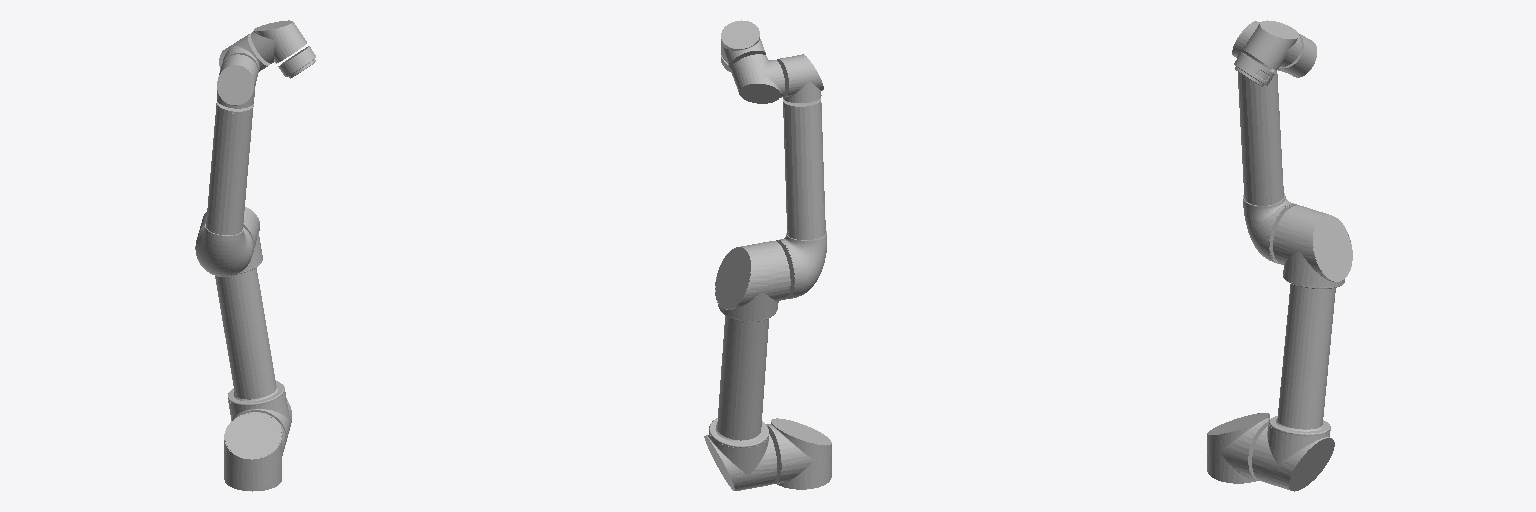
robot.urdf — ur5:
<?xml version="1.0" encoding="utf-8"?>
<!-- This URDF was automatically created by SolidWorks to URDF Exporter! Originally created by [author] ([email redacted]) 
     Commit Version: 1.6.0-4-g7f85cfe  Build Version: 1.6.7995.38578
     For more information, please see http://wiki.ros.org/sw_urdf_exporter -->
<robot
  name="ur5">
  <link
    name="base_link">
    <inertial>
      <origin
        xyz="0.00655614851901618 0.00875209372774839 0.0803256198422797"
        rpy="0 0 0" />
      <mass
        value="1.16671926811488" />
      <inertia
        ixx="0.00213484598247089"
        ixy="-8.75744225275896E-05"
        ixz="-0.000155366712798131"
        iyy="0.00208356403275134"
        iyz="-0.000207389969339676"
        izz="0.00226811292179453" />
    </inertial>
    <visual>
      <origin
        xyz="0 0 0"
        rpy="0 0 0" />
      <geometry>
        <mesh
          filename="package://ur5/meshes/base_link.STL" />
      </geometry>
      <material
        name="">
        <color
          rgba="0.752941176470588 0.752941176470588 0.752941176470588 1" />
      </material>
    </visual>
    <collision>
      <origin
        xyz="0 0 0"
        rpy="0 0 0" />
      <geometry>
        <mesh
          filename="package://ur5/meshes/base_link.STL" />
      </geometry>
    </collision>
  </link>
  <link
    name="link1">
    <inertial>
      <origin
        xyz="-0.0324626986746649 -0.210005755781888 0.0695751843092656"
        rpy="0 0 0" />
      <mass
        value="4.16135879753895" />
      <inertia
        ixx="0.0204686280854395"
        ixy="-0.00226101141342534"
        ixz="-2.27971752067915E-07"
        iyy="0.00619136903373067"
        iyz="3.6019428463953E-08"
        izz="0.0209533591147774" />
    </inertial>
    <visual>
      <origin
        xyz="0 0 0"
        rpy="0 0 0" />
      <geometry>
        <mesh
          filename="package://ur5/meshes/link1.STL" />
      </geometry>
      <material
        name="">
        <color
          rgba="0.752941176470588 0.752941176470588 0.752941176470588 1" />
      </material>
    </visual>
    <collision>
      <origin
        xyz="0 0 0"
        rpy="0 0 0" />
      <geometry>
        <mesh
          filename="package://ur5/meshes/link1.STL" />
      </geometry>
    </collision>
  </link>
  <joint
    name="base_link1_joint"
    type="continuous">
    <origin
      xyz="0.035975 0.048019 0.09"
      rpy="-1.5708 0 -0.64298" />
    <parent
      link="base_link" />
    <child
      link="link1" />
    <axis
      xyz="0 1 0" />
  </joint>
  <link
    name="link2">
    <inertial>
      <origin
        xyz="0.0128068945094935 -0.16391308464046 -0.0390998457035408"
        rpy="0 0 0" />
      <mass
        value="2.36828624234339" />
      <inertia
        ixx="0.0113847165275977"
        ixy="0.000733653017228413"
        ixz="9.29831076805585E-06"
        iyy="0.0020576184962093"
        iyz="-0.000121379725605494"
        izz="0.0115535615130683" />
    </inertial>
    <visual>
      <origin
        xyz="0 0 0"
        rpy="0 0 0" />
      <geometry>
        <mesh
          filename="package://ur5/meshes/link2.STL" />
      </geometry>
      <material
        name="">
        <color
          rgba="0.752941176470588 0.752941176470588 0.752941176470588 1" />
      </material>
    </visual>
    <collision>
      <origin
        xyz="0 0 0"
        rpy="0 0 0" />
      <geometry>
        <mesh
          filename="package://ur5/meshes/link2.STL" />
      </geometry>
    </collision>
  </link>
  <joint
    name="link1_link2_joint"
    type="prismatic">
    <origin
      xyz="-0.064925 -0.42001 -0.0002"
      rpy="0 0 0" />
    <parent
      link="link1" />
    <child
      link="link2" />
    <axis
      xyz="0.79821 -0.60237 0" />
    <limit
      lower="0"
      upper="0"
      effort="0"
      velocity="0" />
  </joint>
  <link
    name="link3">
    <inertial>
      <origin
        xyz="0.00542007039340814 -0.00405767564838833 0.0454357577900437"
        rpy="0 0 0" />
      <mass
        value="0.347990711183164" />
      <inertia
        ixx="0.000295635200777506"
        ixy="2.11927713912218E-06"
        ixz="-2.6933219031375E-05"
        iyy="0.000296423400882969"
        iyz="2.05909100860307E-05"
        izz="0.00026679122886515" />
    </inertial>
    <visual>
      <origin
        xyz="0 0 0"
        rpy="0 0 0" />
      <geometry>
        <mesh
          filename="package://ur5/meshes/link3.STL" />
      </geometry>
      <material
        name="">
        <color
          rgba="0.752941176470588 0.752941176470588 0.752941176470588 1" />
      </material>
    </visual>
    <collision>
      <origin
        xyz="0 0 0"
        rpy="0 0 0" />
      <geometry>
        <mesh
          filename="package://ur5/meshes/link3.STL" />
      </geometry>
    </collision>
  </link>
  <joint
    name="link2_link3_joint"
    type="prismatic">
    <origin
      xyz="0.030564 -0.39106 -0.0032"
      rpy="0 0 0" />
    <parent
      link="link2" />
    <child
      link="link3" />
    <axis
      xyz="0.79821 -0.60237 0" />
    <limit
      lower="0"
      upper="0"
      effort="0"
      velocity="0" />
  </joint>
  <link
    name="link4">
    <inertial>
      <origin
        xyz="0.00288235100536494 -0.00612651636981953 0.0454358002589424"
        rpy="0 0 0" />
      <mass
        value="0.347990611235843" />
      <inertia
        ixx="0.000297575229378339"
        ixy="1.51683792820799E-06"
        ixz="-1.41230082862842E-05"
        iyy="0.000294496865398565"
        iyz="3.08269064222405E-05"
        izz="0.000266786877334862" />
    </inertial>
    <visual>
      <origin
        xyz="0 0 0"
        rpy="0 0 0" />
      <geometry>
        <mesh
          filename="package://ur5/meshes/link4.STL" />
      </geometry>
      <material
        name="">
        <color
          rgba="0.752941176470588 0.752941176470588 0.752941176470588 1" />
      </material>
    </visual>
    <collision>
      <origin
        xyz="0 0 0"
        rpy="0 0 0" />
      <geometry>
        <mesh
          filename="package://ur5/meshes/link4.STL" />
      </geometry>
    </collision>
  </link>
  <joint
    name="link3_link4_joint"
    type="fixed">
    <origin
      xyz="0.033166 -0.025029 0.05337"
      rpy="1.5708 -0.8936 0.92433" />
    <parent
      link="link3" />
    <child
      link="link4" />
    <axis
      xyz="0 0 0" />
  </joint>
  <link
    name="link5">
    <inertial>
      <origin
        xyz="-0.000168217553727423 6.75220060876169E-05 0.0149779081621214"
        rpy="0 0 0" />
      <mass
        value="0.130146415437089" />
      <inertia
        ixx="5.55768465586905E-05"
        ixy="-2.41312247332349E-07"
        ixz="9.79934312393585E-08"
        iyy="5.50725274119075E-05"
        iyz="-3.93342600140777E-08"
        izz="9.01432526904566E-05" />
    </inertial>
    <visual>
      <origin
        xyz="0 0 0"
        rpy="0 0 0" />
      <geometry>
        <mesh
          filename="package://ur5/meshes/link5.STL" />
      </geometry>
      <material
        name="">
        <color
          rgba="0.752941176470588 0.752941176470588 0.752941176470588 1" />
      </material>
    </visual>
    <collision>
      <origin
        xyz="0 0 0"
        rpy="0 0 0" />
      <geometry>
        <mesh
          filename="package://ur5/meshes/link5.STL" />
      </geometry>
    </collision>
  </link>
  <joint
    name="link4_link5_joint"
    type="fixed">
    <origin
      xyz="0.020549 -0.044119 0.05337"
      rpy="1.5708 -0.74157 0.43588" />
    <parent
      link="link4" />
    <child
      link="link5" />
    <axis
      xyz="0 0 0" />
  </joint>
</robot>

--- Facts derived from the render (not from the file) ---
The picture shows the robot from 3 angles, left to right: view 1: azimuth 30°, elevation 25°; view 2: azimuth 150°, elevation 25°; view 3: azimuth 270°, elevation 25°; orthographic projection.
Robot: ur5 — 6 links, 5 joints (1 continuous, 2 prismatic, 2 fixed); root link base_link; default pose: every joint at zero.
Links seen in each view (by area): view 1: link2, link1, base_link, link4, link3, link5; view 2: link1, link2, base_link, link3, link4; view 3: link1, link2, base_link, link4, link3, link5.
Boxes of the visible links, x1,y1,x2,y2 form: link2: [195, 54, 257, 276]; link1: [198, 207, 291, 441]; base_link: [224, 412, 285, 491]; link4: [251, 20, 306, 63]; link3: [219, 34, 269, 72]; link5: [278, 46, 315, 78]; link1: [704, 241, 790, 490]; link2: [776, 54, 826, 298]; base_link: [766, 418, 831, 489]; link3: [731, 54, 784, 103]; link4: [721, 20, 765, 68]; link1: [1252, 205, 1352, 491]; link2: [1232, 21, 1296, 263]; base_link: [1207, 413, 1269, 483]; link4: [1244, 20, 1301, 70]; link3: [1270, 34, 1316, 77]; link5: [1234, 52, 1274, 86].
Size in the robot's own frame: 0.2393 by 0.2709 by 0.9602 metres.
6 mesh visuals loaded from 6 distinct referenced files (6 binary STL).